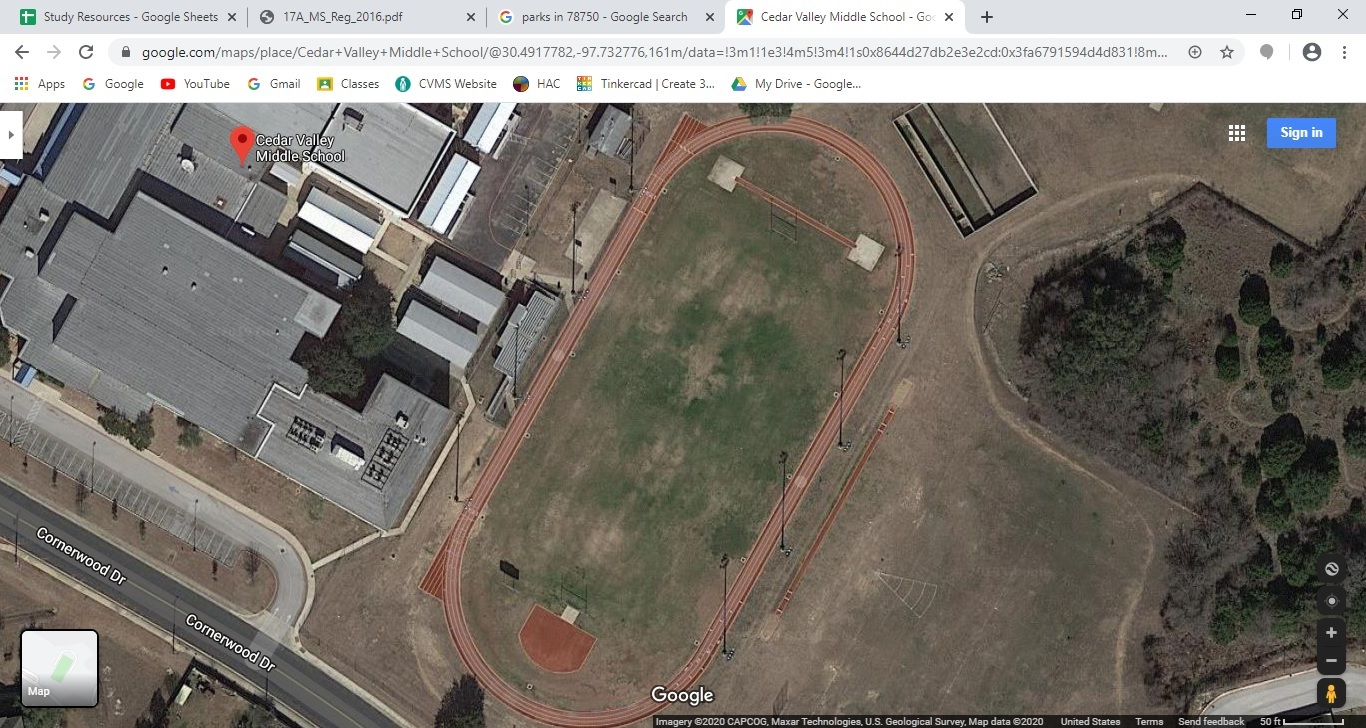soccer: (388, 108, 965, 700)
